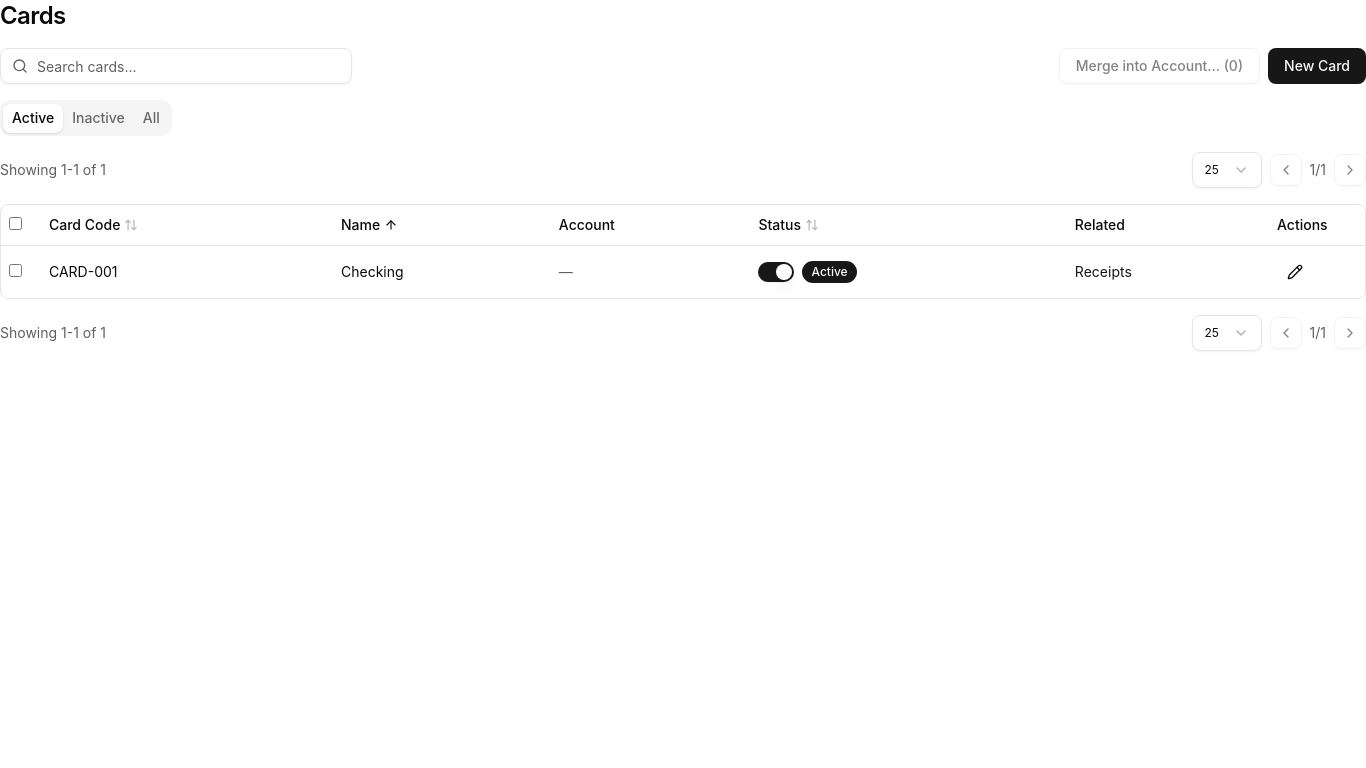
Test: Cards › opens edit dialog when Edit button is clicked
Step 1. Click the button named "edit" → (1295, 272), box x1=1277 y1=254 x2=1313 y2=290
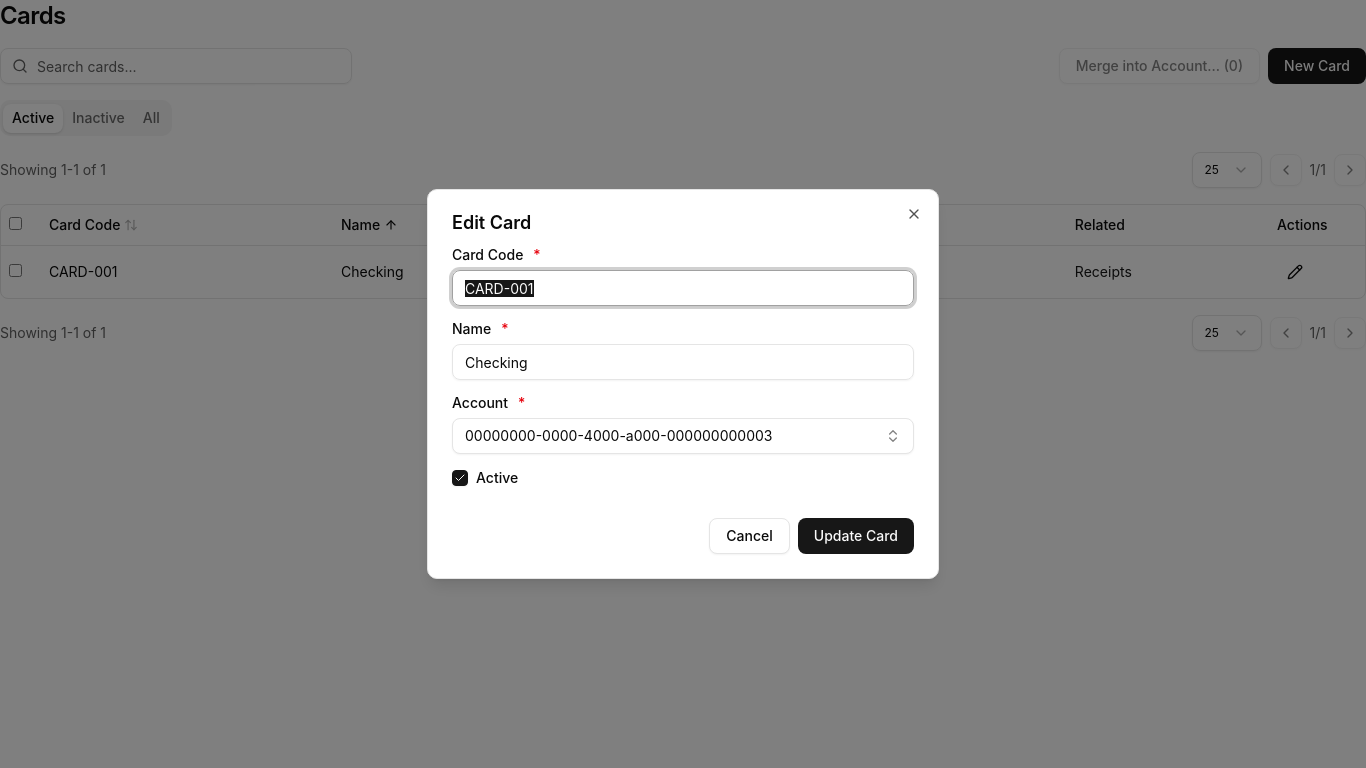
Now the heading "Edit Card" is shown, box x1=452 y1=212 x2=531 y2=233
